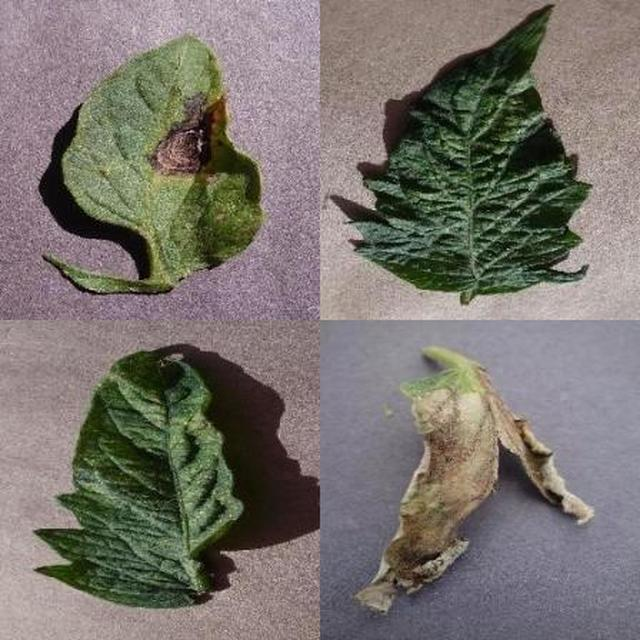Early Blight Leaf: (198, 212, 640, 640)
